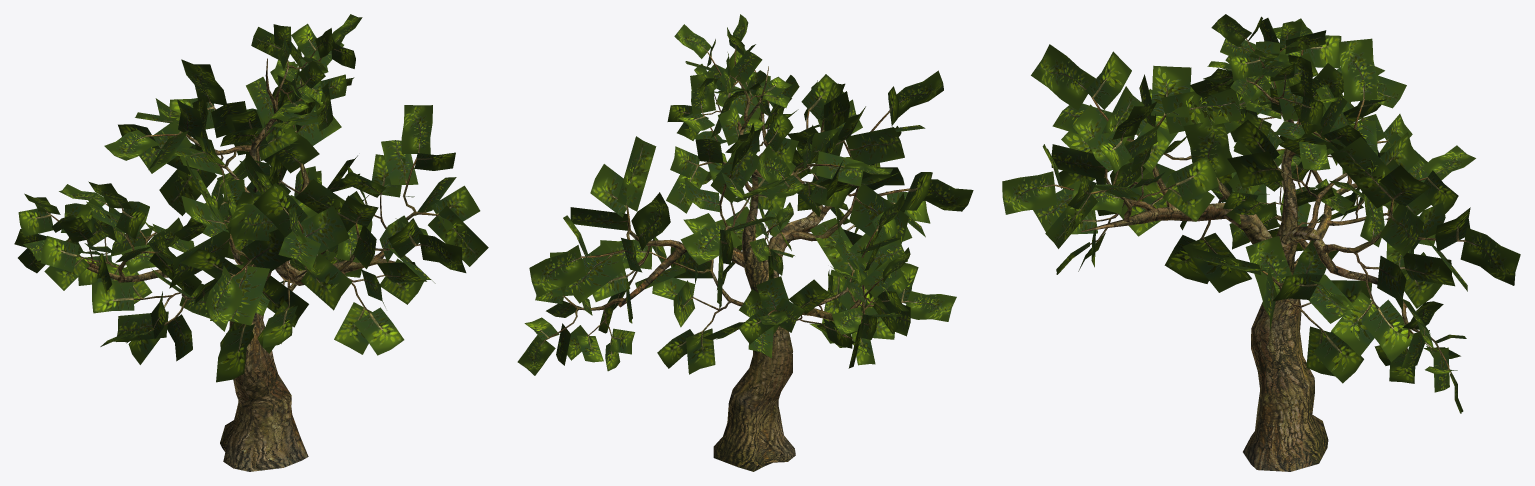
Rendered from Tree_B.FBX.
3 renders of one model, left to right at view 1: azimuth 30°, elevation 25°; view 2: azimuth 150°, elevation 25°; view 3: azimuth 270°, elevation 25°, orthographic. The views are drawn at different scales.
Parts seen in each view (by area): view 1: Tree_B; view 2: Tree_B; view 3: Tree_B.
Part boxes in pixels (x1,y1,x2,y2): Tree_B: (14, 14, 488, 471); Tree_B: (517, 14, 973, 471); Tree_B: (1002, 14, 1520, 471).
Bounding box in the file's own units: 733 × 834 × 852.
